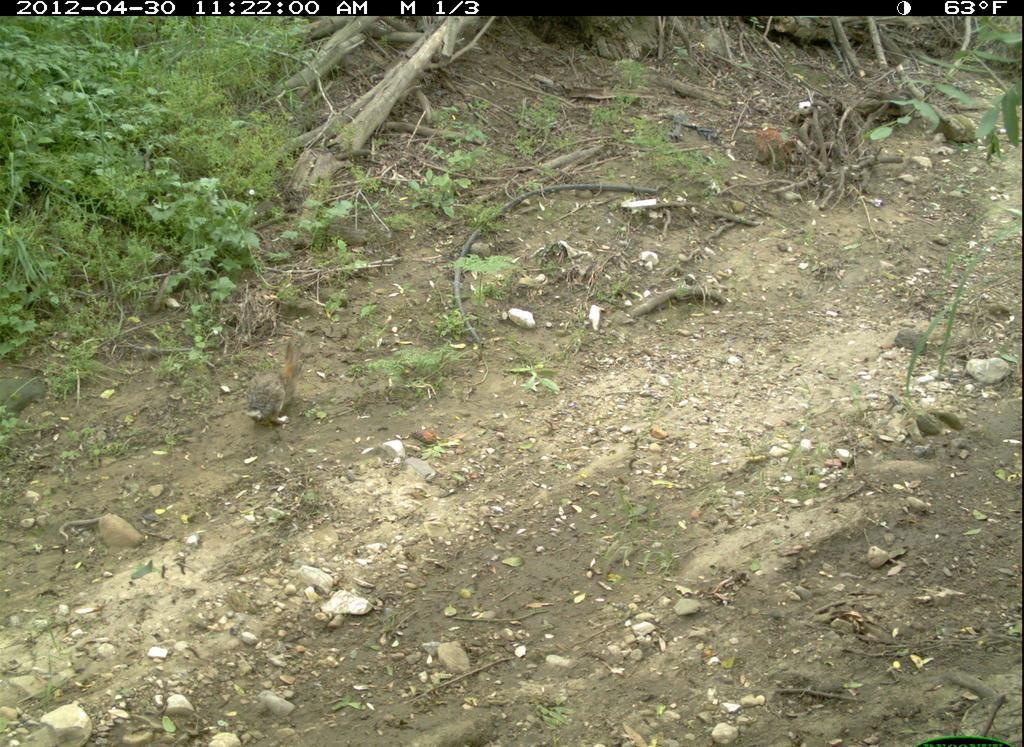rabbit: (244, 341, 315, 432)
